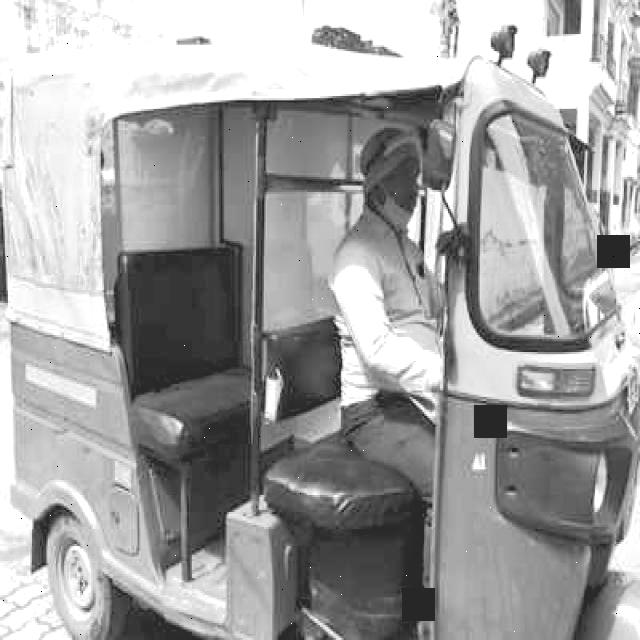Auto-Rickshaw: (1, 55, 640, 639)
